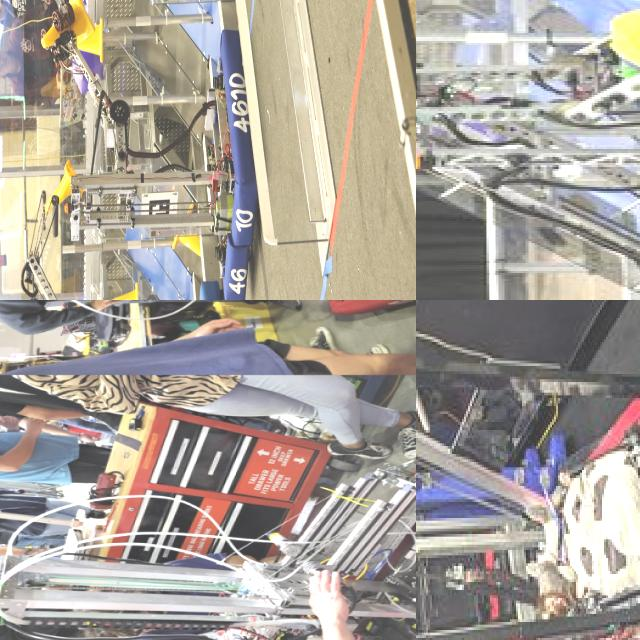FRC-Robots: (0, 452, 416, 640), (416, 311, 640, 640), (416, 11, 640, 300), (61, 7, 258, 300), (27, 174, 249, 300)
